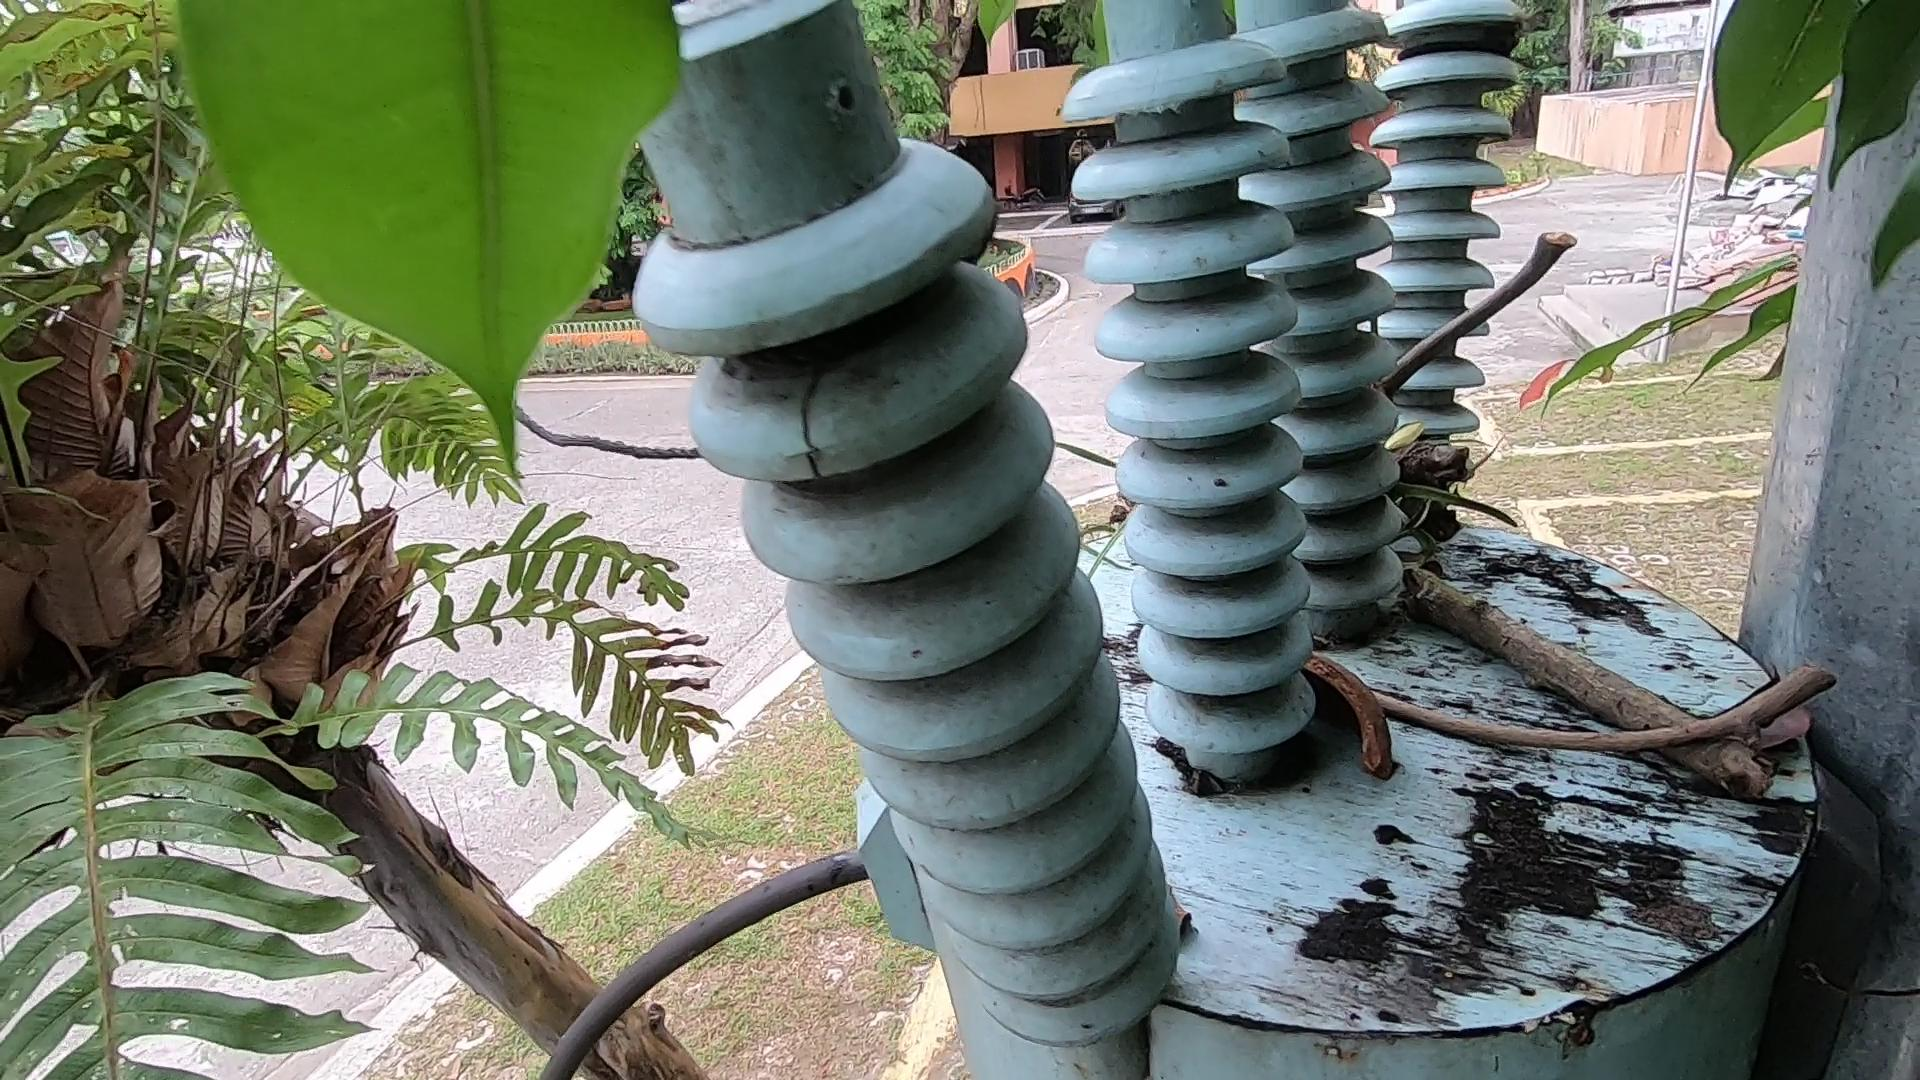branch with leaves: (1308, 386, 1789, 828)
leaf: (1693, 646, 1870, 782), (1141, 858, 1236, 924)
mahogany fruit: (1265, 618, 1429, 807)
tree branch: (1254, 593, 1853, 764), (1358, 200, 1578, 440)
